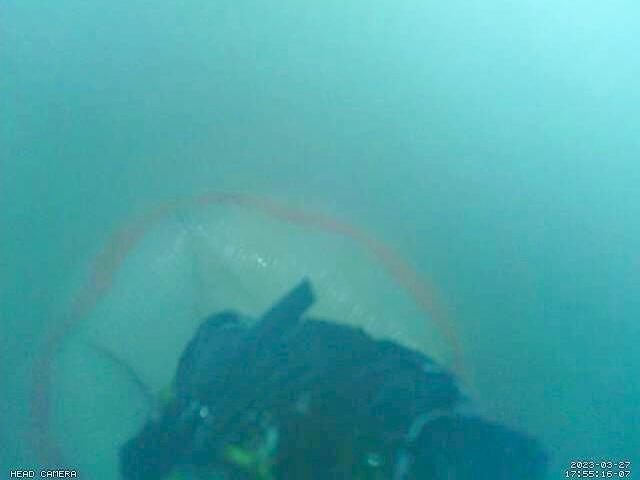head: (24, 189, 465, 480)
